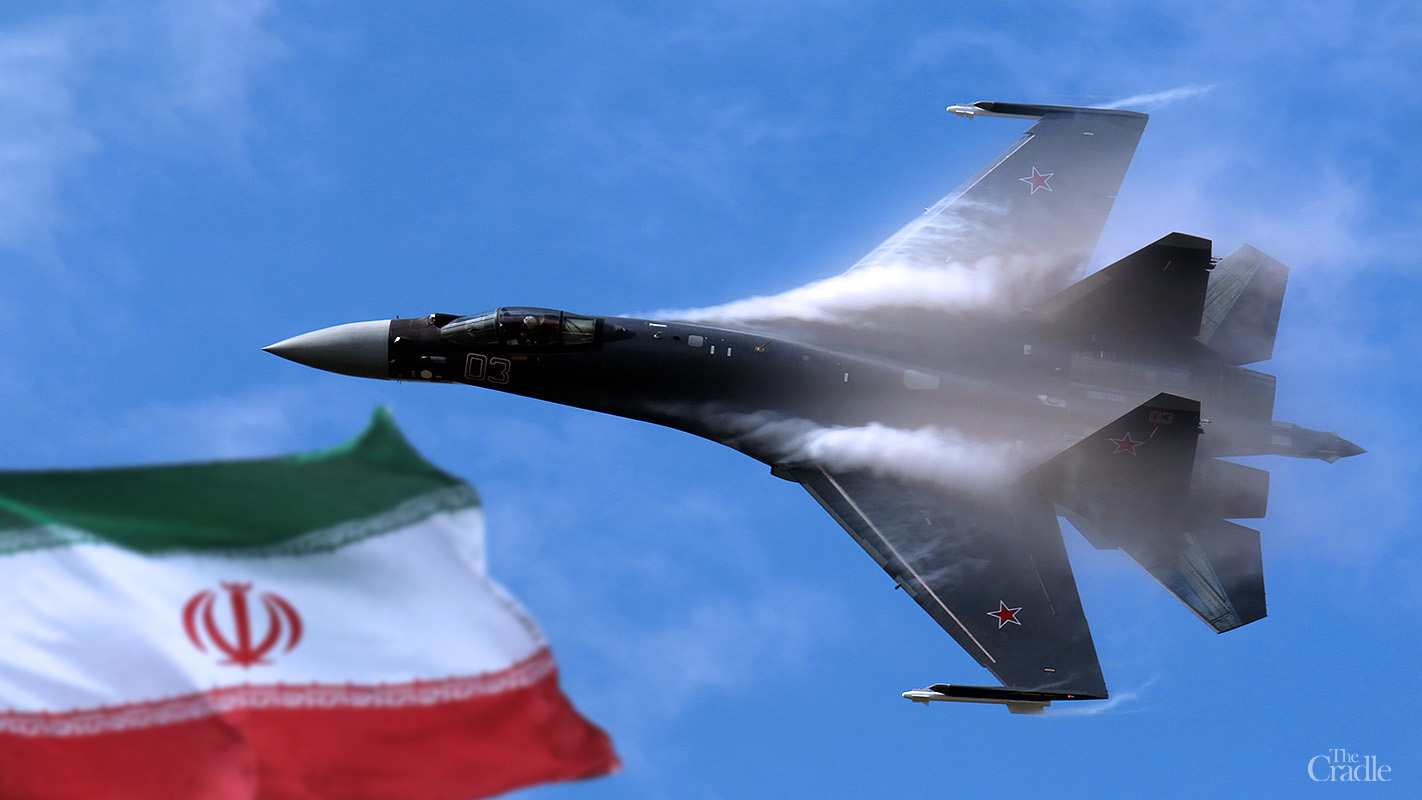Su35: (255, 87, 1372, 724)
